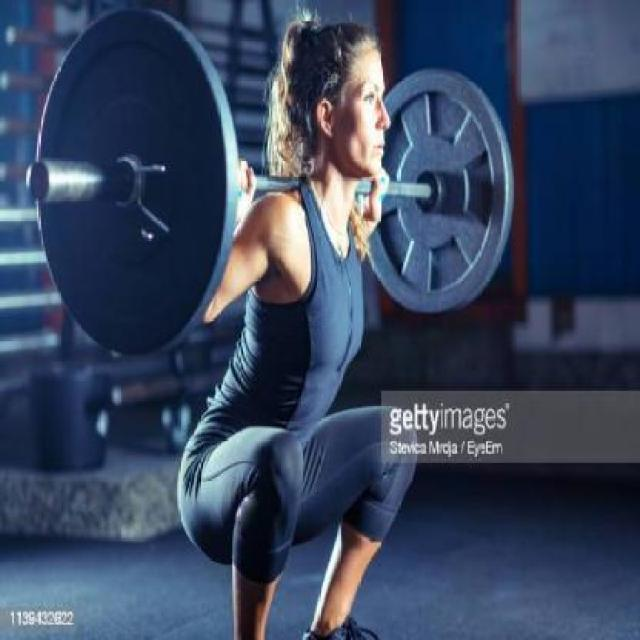barbell: (23, 1, 235, 365)
